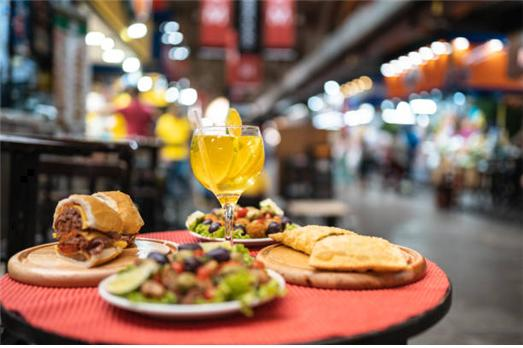alcohol: (188, 123, 267, 238)
